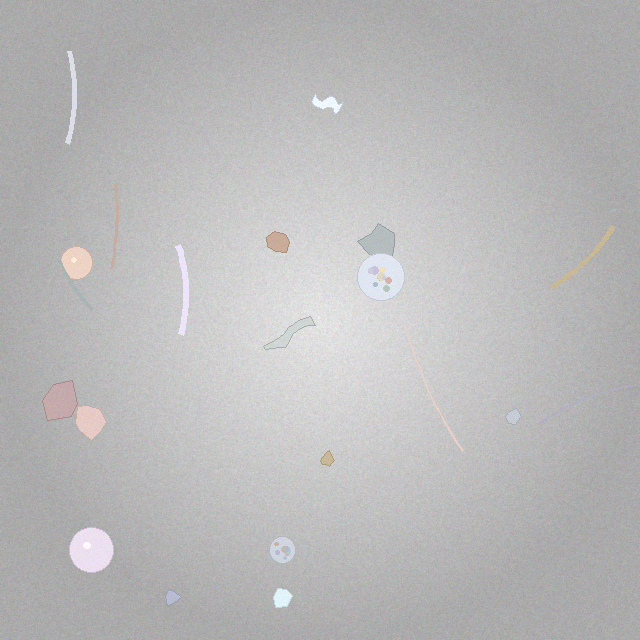fiber: (402, 321, 465, 453), (546, 221, 619, 293), (386, 59, 491, 108), (535, 383, 638, 428), (55, 256, 96, 313), (172, 239, 192, 341), (63, 47, 80, 149), (108, 180, 121, 272)
film: (264, 317, 315, 349), (311, 93, 343, 114)
foam: (358, 254, 404, 300), (269, 537, 295, 563)
fragment: (358, 223, 395, 263), (43, 381, 78, 420), (75, 405, 106, 441), (266, 231, 290, 253), (273, 588, 293, 608), (165, 590, 181, 606), (506, 409, 522, 425), (320, 451, 334, 466)
pellet: (69, 528, 114, 572), (61, 247, 93, 279)
